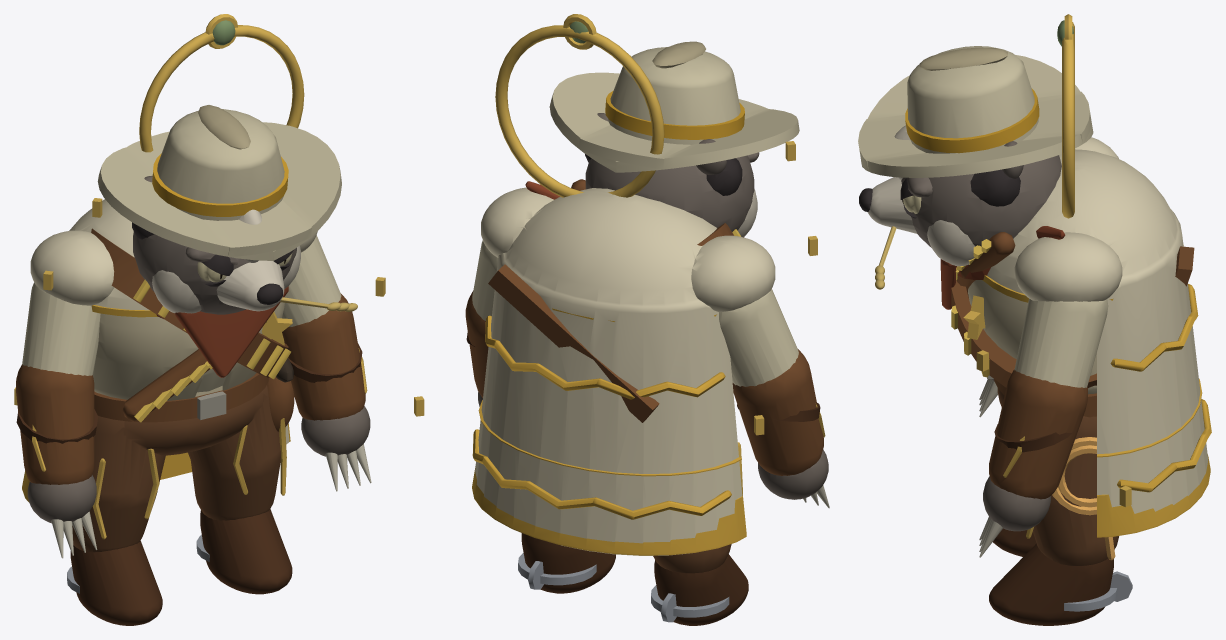
File: lawlander_tenjin.glb
The picture shows the model from 3 angles, left to right: view 1: azimuth 30°, elevation 25°; view 2: azimuth 150°, elevation 25°; view 3: azimuth 270°, elevation 25°; orthographic projection. The views are drawn at different scales.
Parts seen in each view (by area): view 1: creature; view 2: creature; view 3: creature.
Part boxes in pixels (<box>): creature: <box>14,14,385,625</box>; creature: <box>414,14,829,625</box>; creature: <box>858,14,1211,625</box>.
Bounding box in the file's own units: 0.6439 × 1 × 0.5387.
